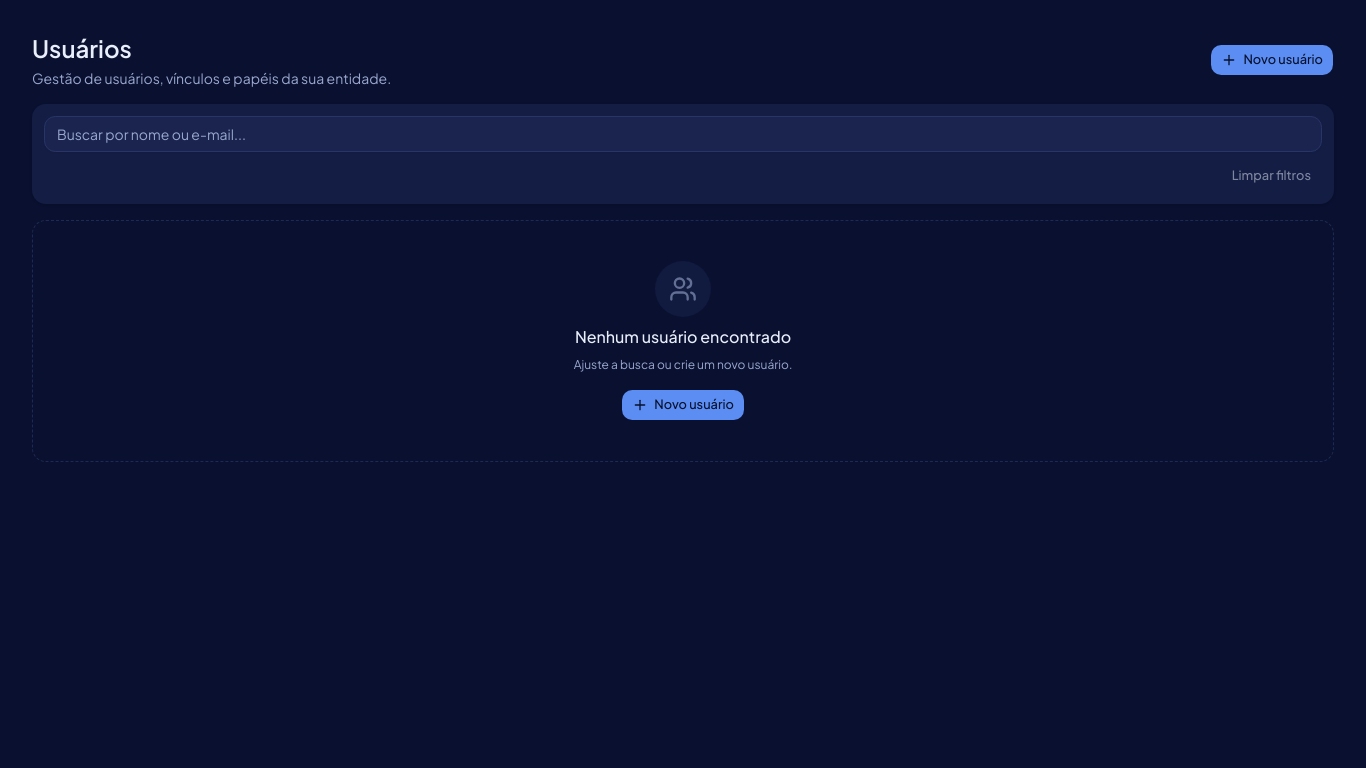
Scenario: UsuariosPage — convite por e-mail ao criar usuário › não existe campo de senha e o payload vai sem senha
The image size is (1366, 768).
Check: the text "Nenhum usuário encontrado" is shown, box [575,325,791,349]
Click the 1st button "Novo usuário" at (1272, 60), box [1210,44,1334,76]
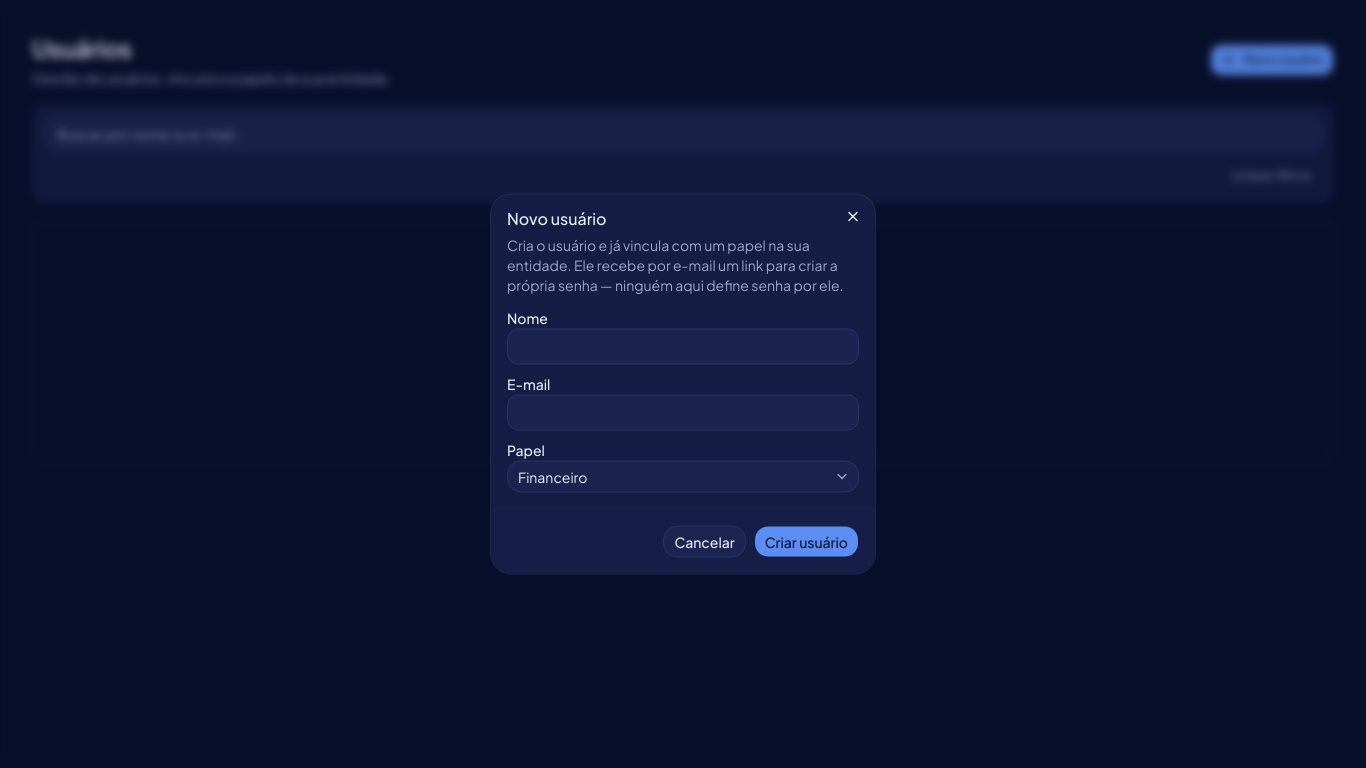
Check: the field labelled "Nome" is shown
Type "Ana Financeiro" into the field labelled "Nome" at (683, 346), box [507,328,859,364]
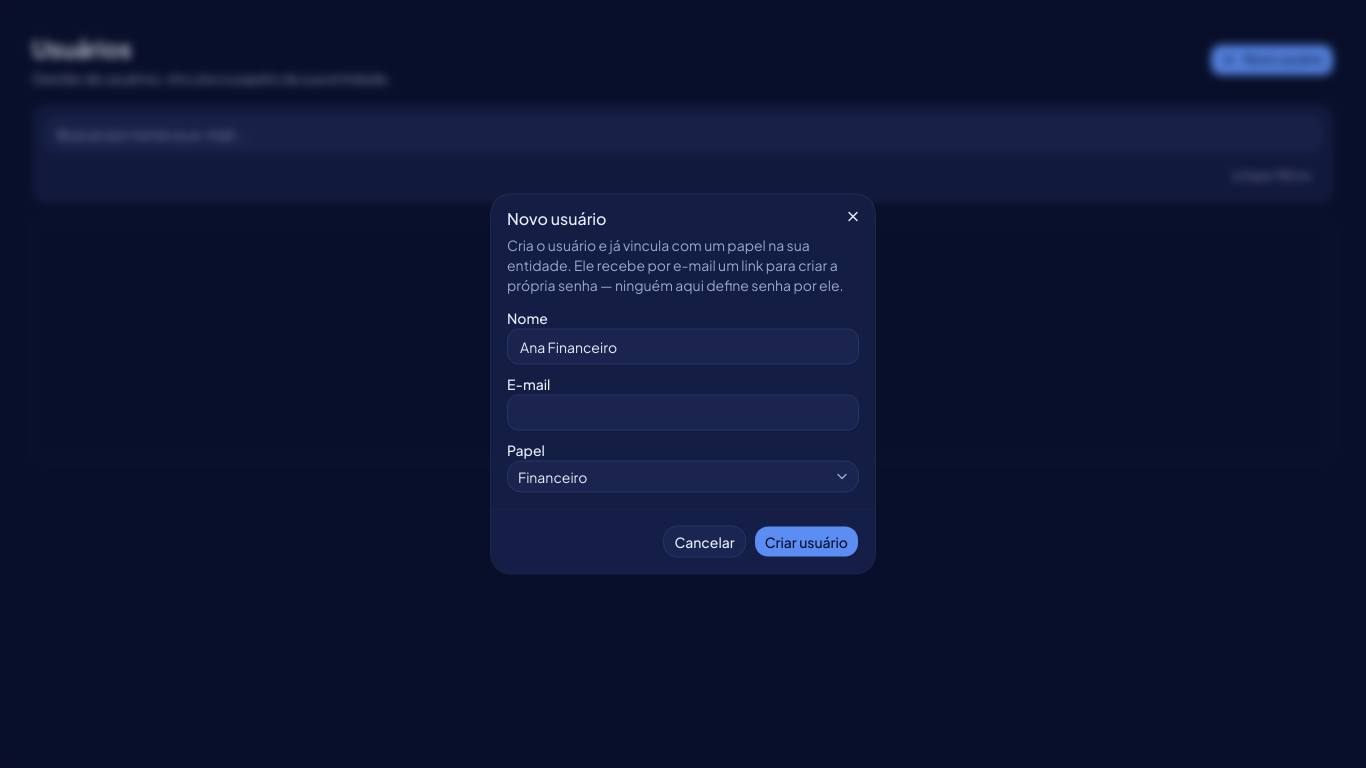
Type "ana@exemplo.com" into the field labelled "E-mail" at (683, 412), box [507,394,859,430]
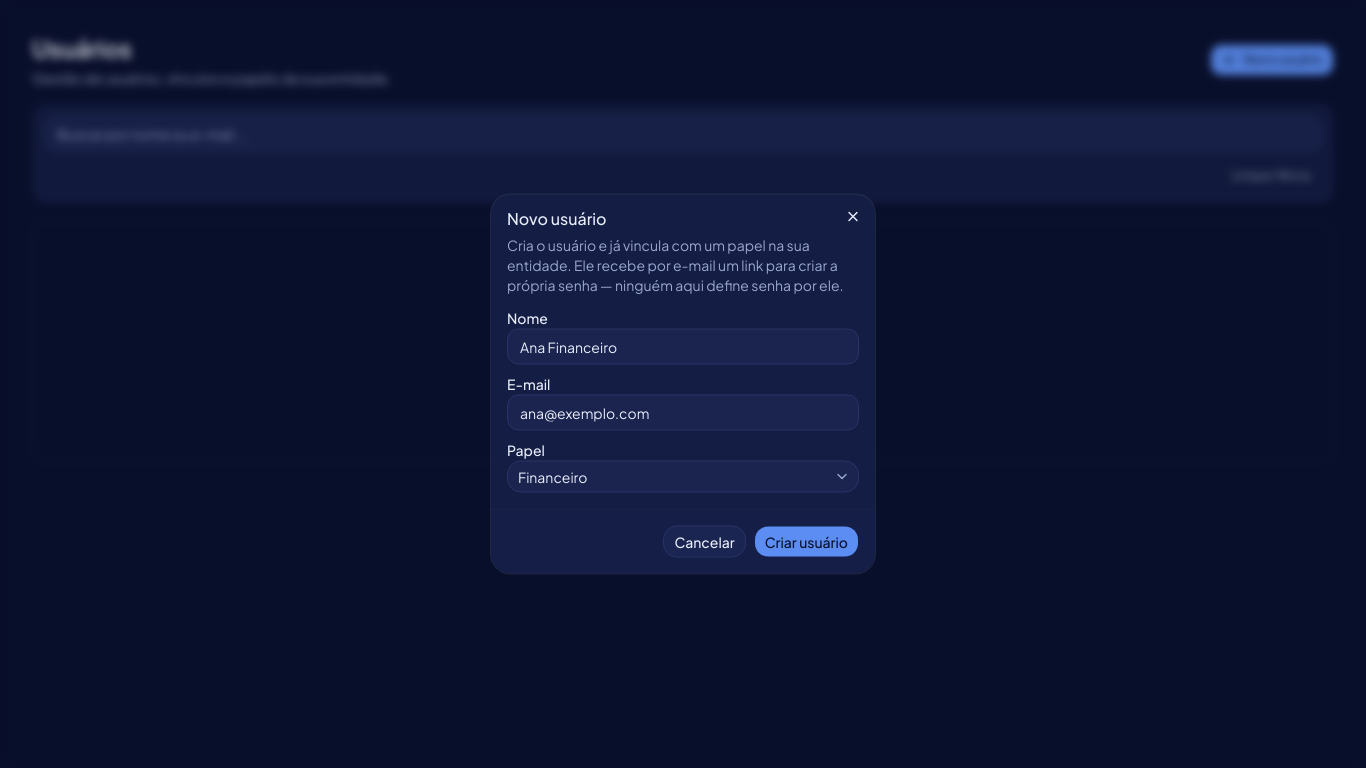
Click the button "Criar usuário" at (806, 542), box [754,526,859,558]
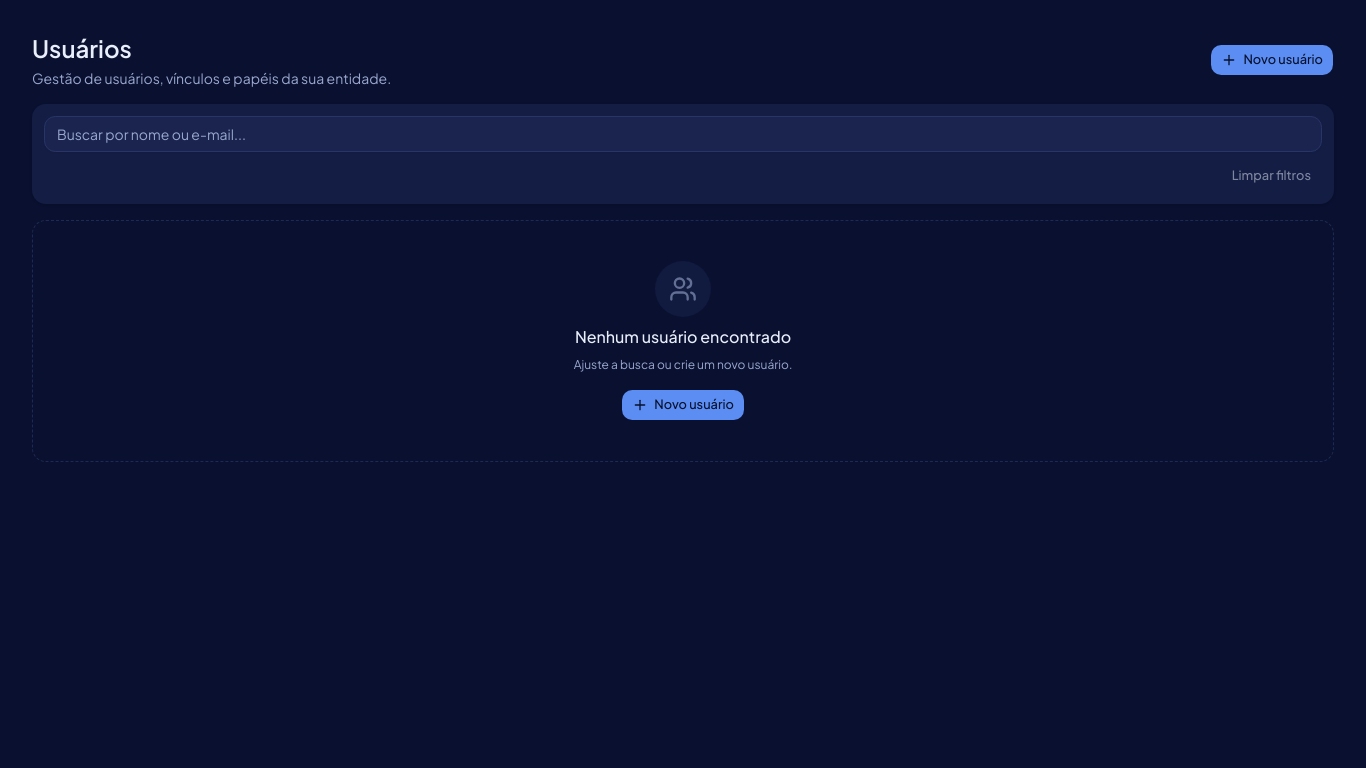
Check: the text labelled "senha" is gone
